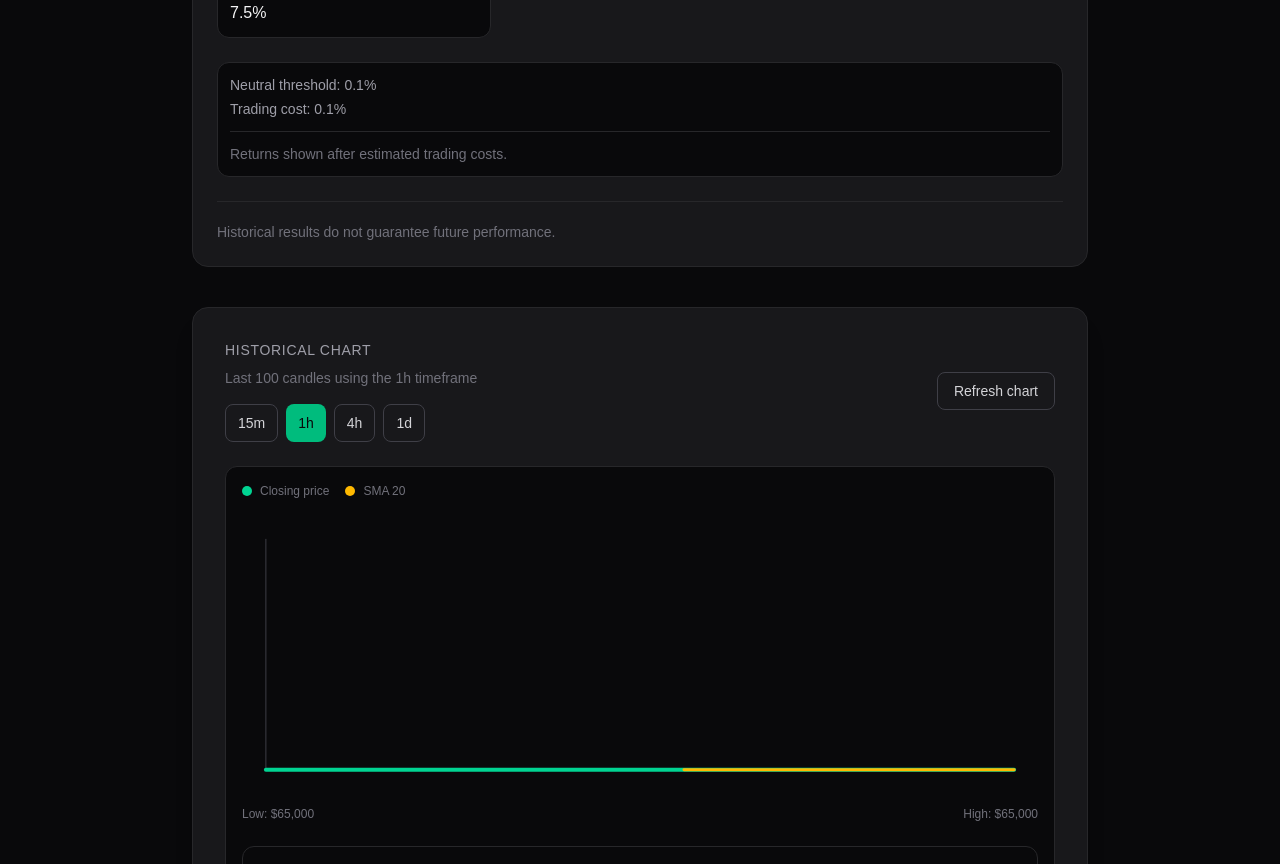
Home page › updates historical performance when the timeframe changes
The image size is (1280, 864).
(page scrolled)
Click the button "4h" at (355, 423), box [334,404,375,442]
(page scrolled)
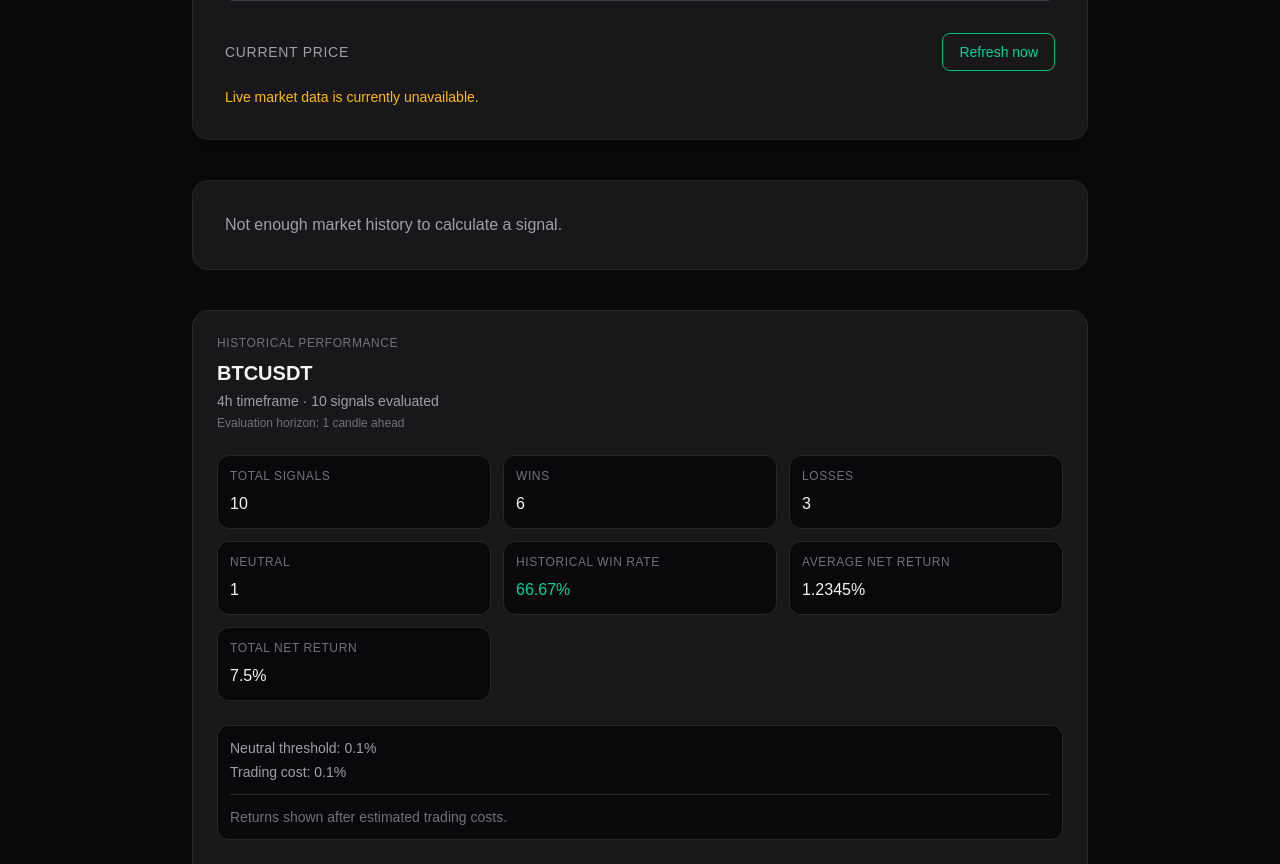
Expected: the text "Evaluation horizon: 1 candle ahead" is shown, [217,416,404,430]
Expected: the text "4h timeframe · 10 signals evaluated" is shown, [217,393,439,409]
